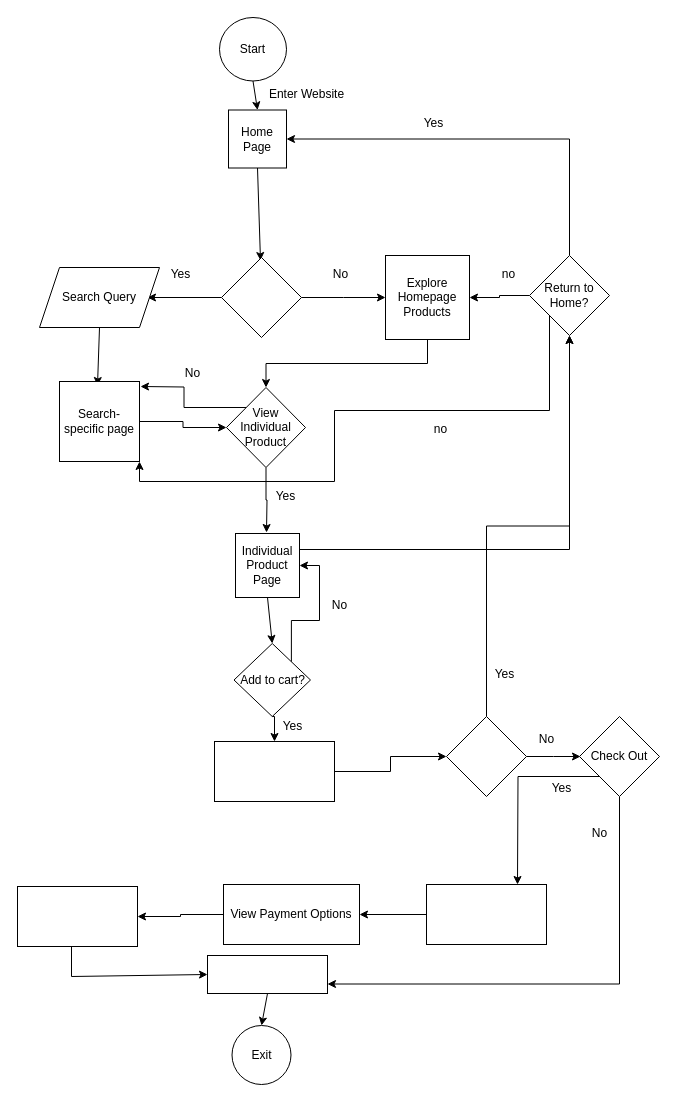
Image size: 677x1102. Some labels were removed from this diagram. Here are the shapes that lost their labels. From the top down, the centre of each, then its label:
(x=261, y=297): Product Search
(x=274, y=771): Added to cart notification
(x=486, y=756): Continue Shopping?
(x=77, y=916): Send Payment Confirmation
(x=486, y=914): View Cart
(x=267, y=974): Leave Website
